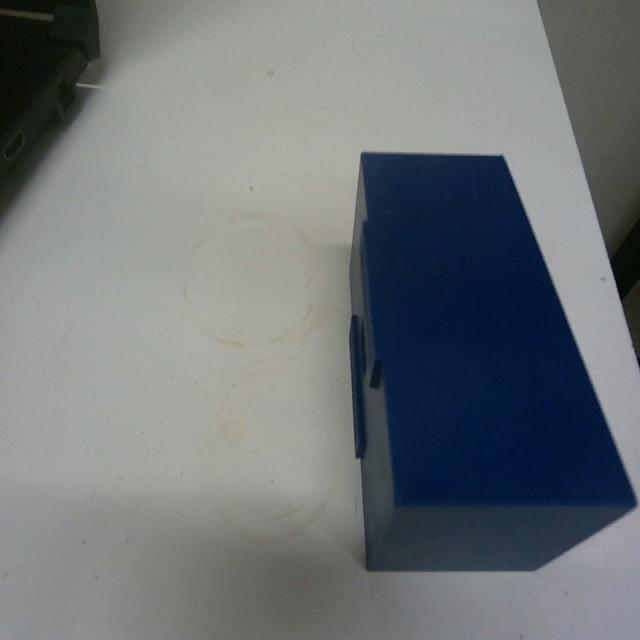Blue Cuboid: (346, 147, 637, 573)
